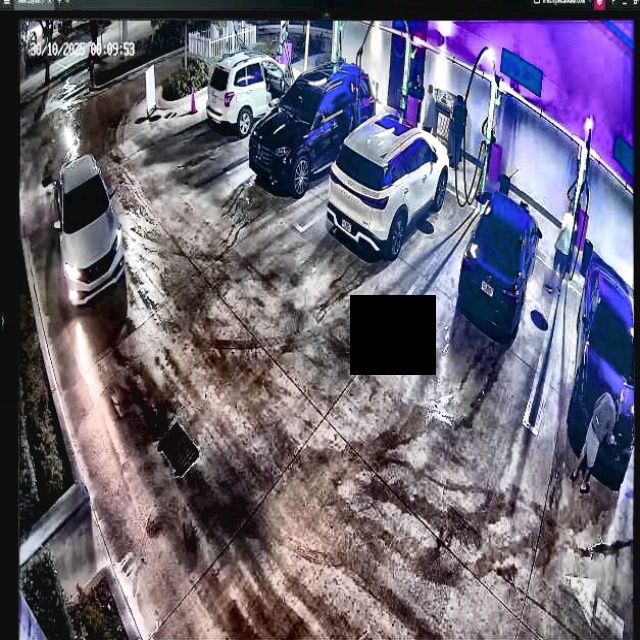Car: (326, 115, 449, 262), (252, 58, 372, 193), (455, 193, 539, 343)
